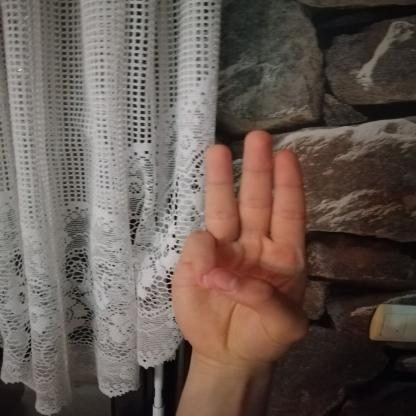THA: (157, 121, 321, 371)
